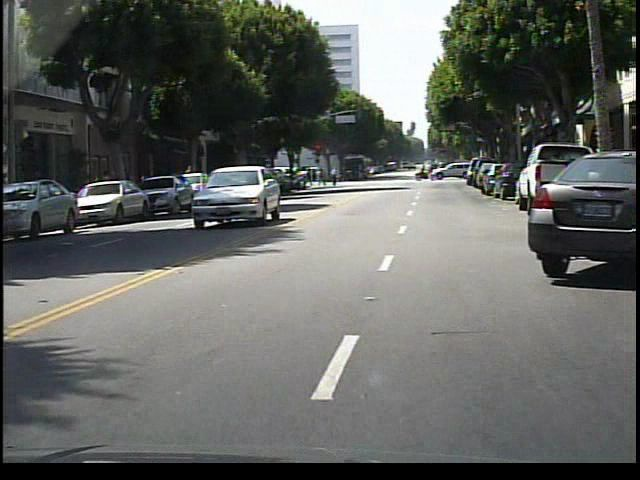person: (325, 163, 345, 193)
